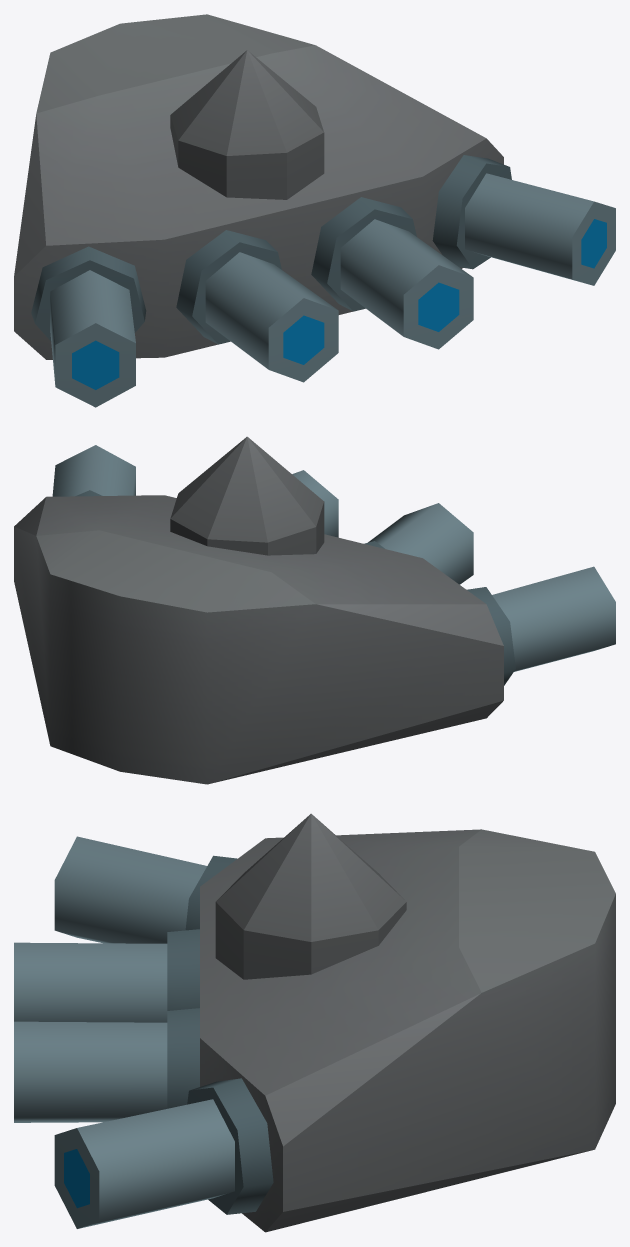
File: Cam_011.fbx
3 views of the same model, one above another, from view 1: azimuth 30°, elevation 25°; view 2: azimuth 150°, elevation 25°; view 3: azimuth 270°, elevation 25° (orthographic). The views are drawn at different scales.
Visible parts, largest first — view 1: Cam_011; view 2: Cam_011; view 3: Cam_011.
Part boxes in pixels (box(x1,y1,x2,y2)): Cam_011: box(14, 14, 615, 407); Cam_011: box(14, 436, 615, 784); Cam_011: box(14, 813, 615, 1232).
Bounding box in the file's own units: 43.55 × 33.8 × 17.98.
